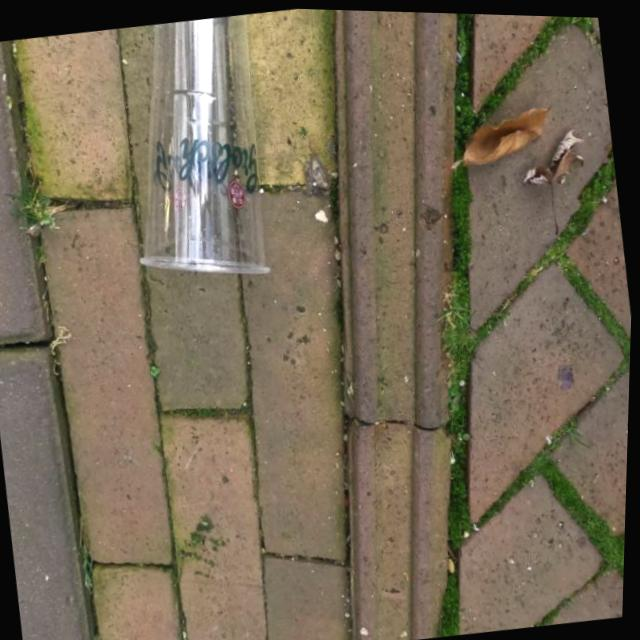Cup: (135, 11, 282, 294)
